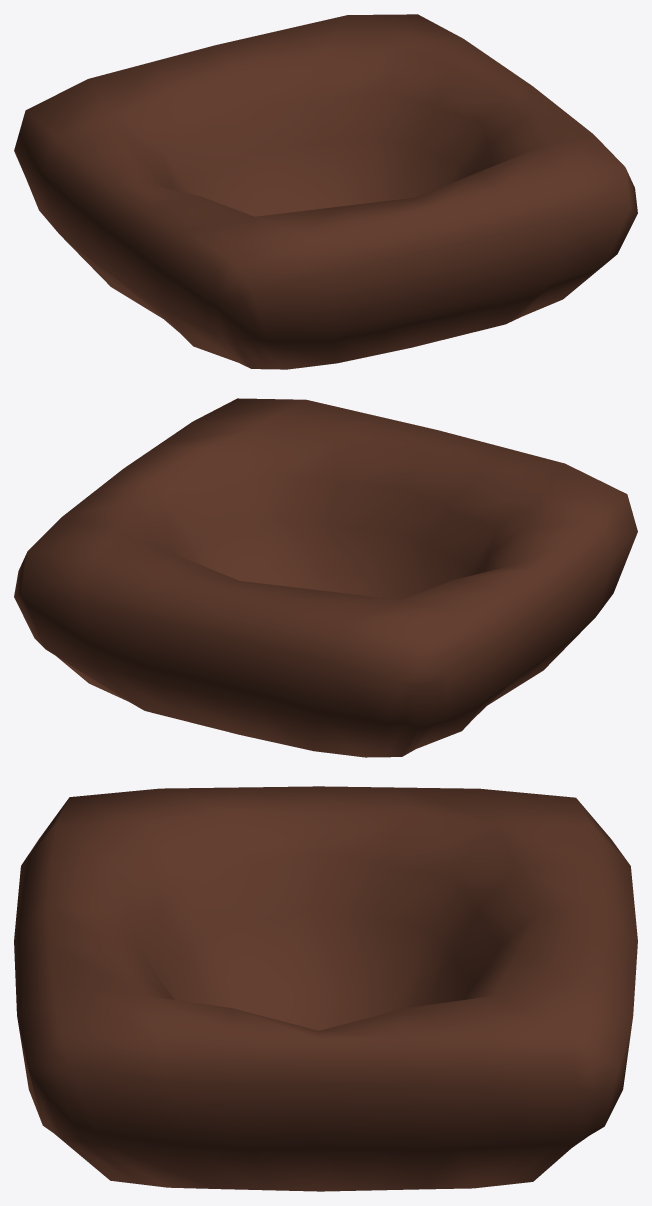
Rendered from nephi_digging.glb.
3 views of the same model, one above another, from view 1: azimuth 30°, elevation 25°; view 2: azimuth 150°, elevation 25°; view 3: azimuth 270°, elevation 25° (orthographic). The views are drawn at different scales.
Parts seen in each view (by area): view 1: dig; view 2: dig; view 3: dig.
Part boxes in pixels (box(x1,y1,x2,y2)): dig: box(14, 14, 637, 369); dig: box(14, 398, 637, 757); dig: box(14, 786, 637, 1191).
Size of the model in its own units: 1.84 by 0.75 by 1.79.
